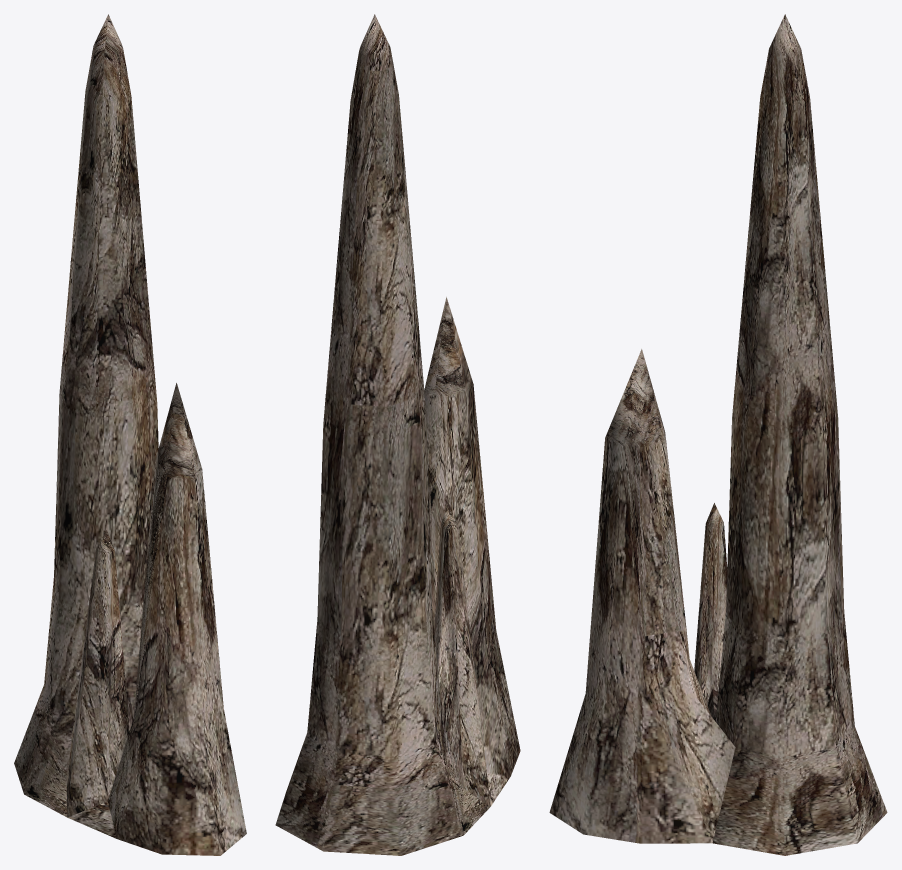
Rendered from stalactite_small2.fbx.
The picture shows the model from 3 angles, left to right: view 1: azimuth 30°, elevation 25°; view 2: azimuth 150°, elevation 25°; view 3: azimuth 270°, elevation 25°; orthographic projection. The views are drawn at different scales.
Visible parts, largest first — view 1: mesh_0; view 2: mesh_0; view 3: mesh_0.
Part boxes in pixels (x1,y1,x2,y2): mesh_0: [14, 14, 246, 855]; mesh_0: [275, 14, 520, 855]; mesh_0: [549, 14, 887, 855].
Size of the model in its own units: 40.48 by 174 by 66.82.
1 material, 1 textured.
